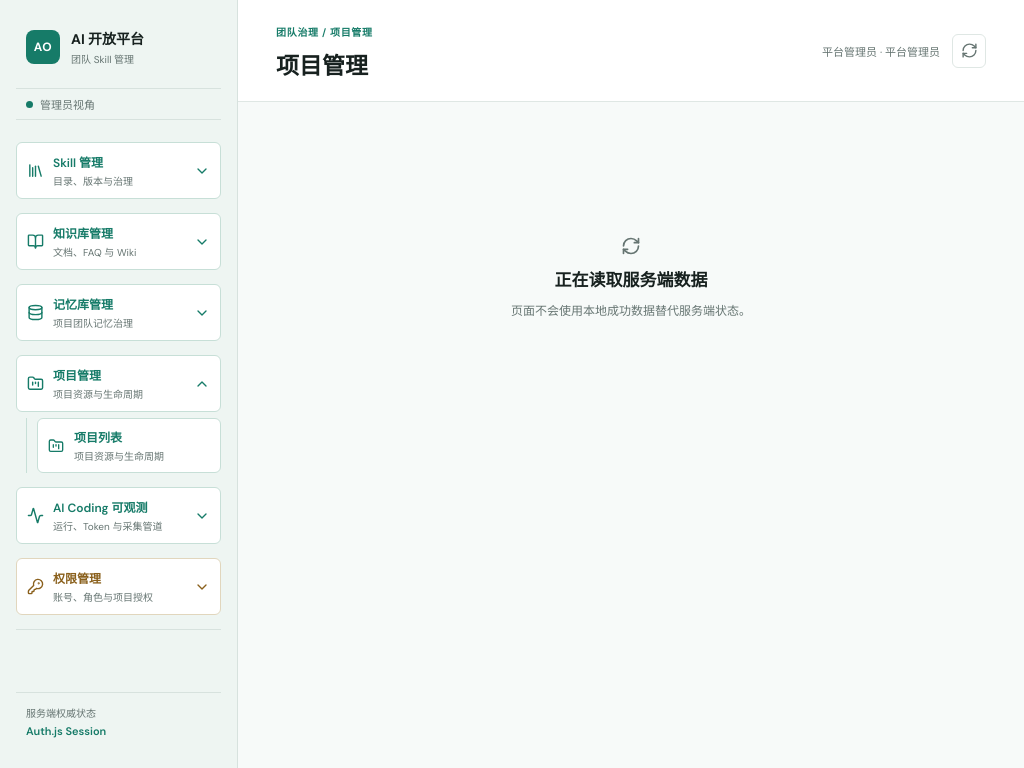
Test case: AdminDashboard › shows archived projects in permission management as read-only
Click the button "权限管理 账号、角色与项目授权": point(118, 586) x1=16 y1=558 x2=221 y2=615
(page scrolled)
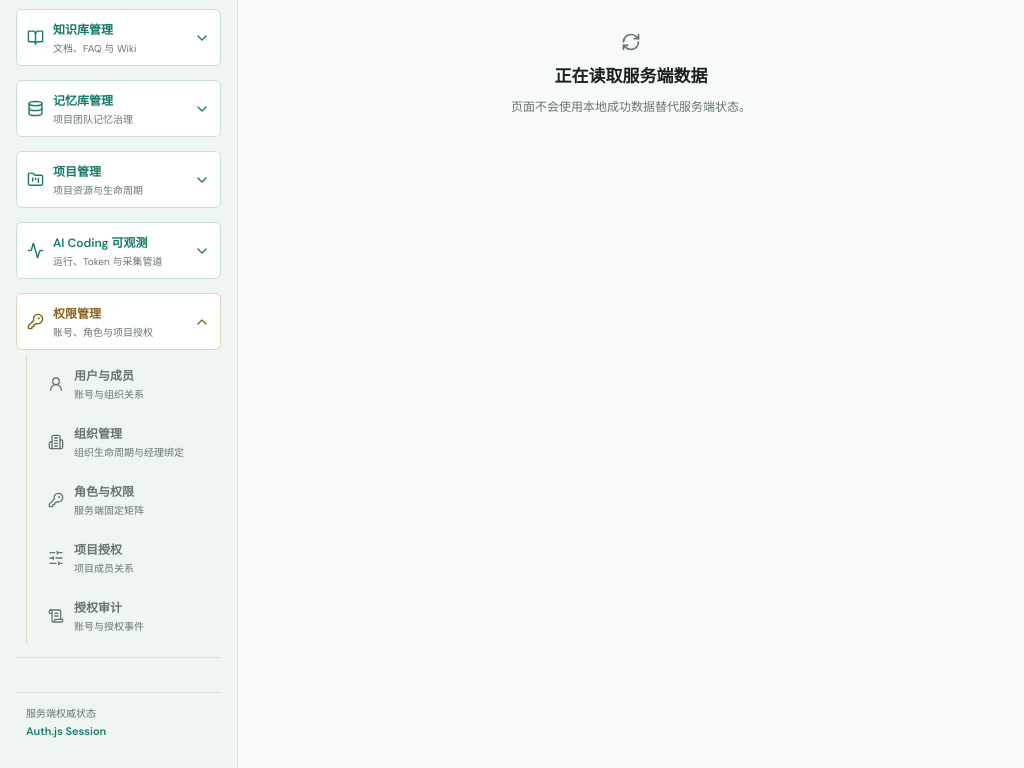
Click the button named "项目授权项目成员关系": point(129, 558) x1=37 y1=530 x2=221 y2=585
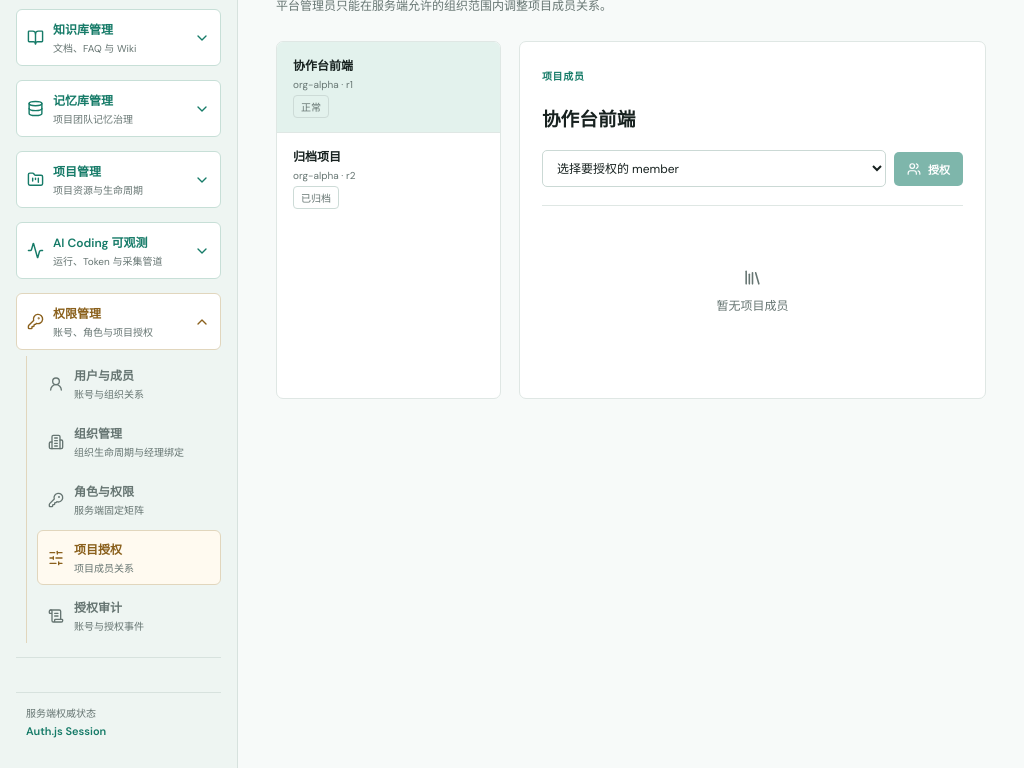
Result: the button "归档项目 org-alpha · r2 已归档" is shown
Click the button "归档项目 org-alpha · r2 已归档": point(388, 178) x1=277 y1=133 x2=500 y2=223
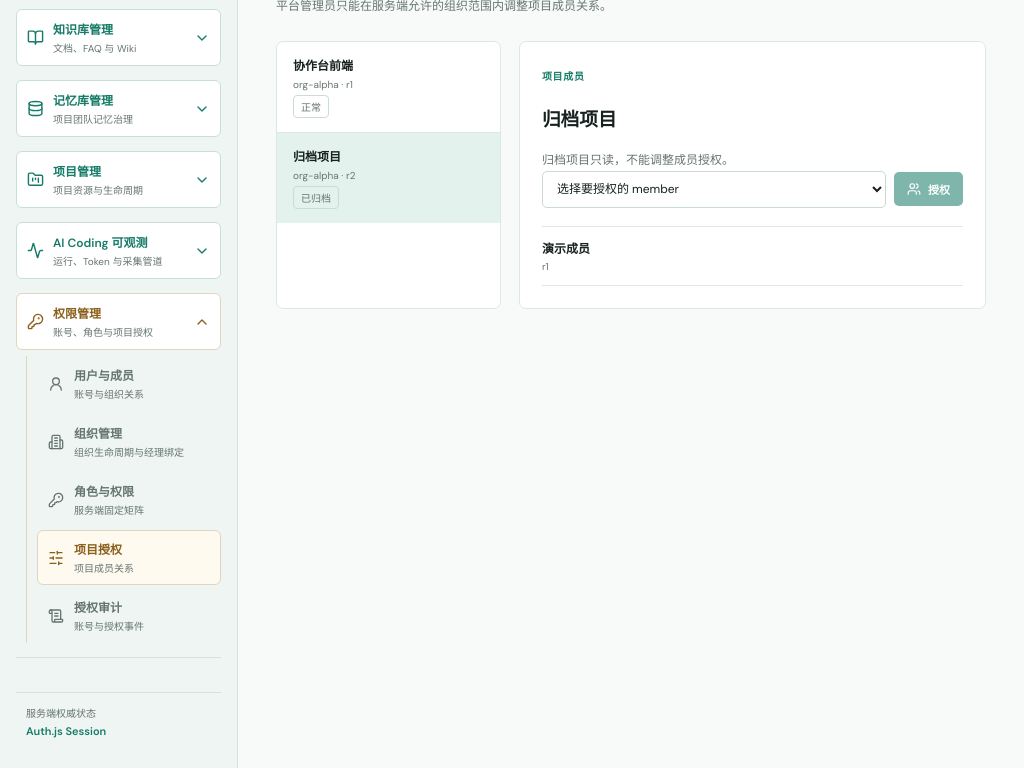
Result: the button "授权" is disabled at x1=894 y1=172 x2=963 y2=206
Result: the text "归档项目只读，不能调整成员授权。" is shown at x1=542 y1=152 x2=734 y2=168
